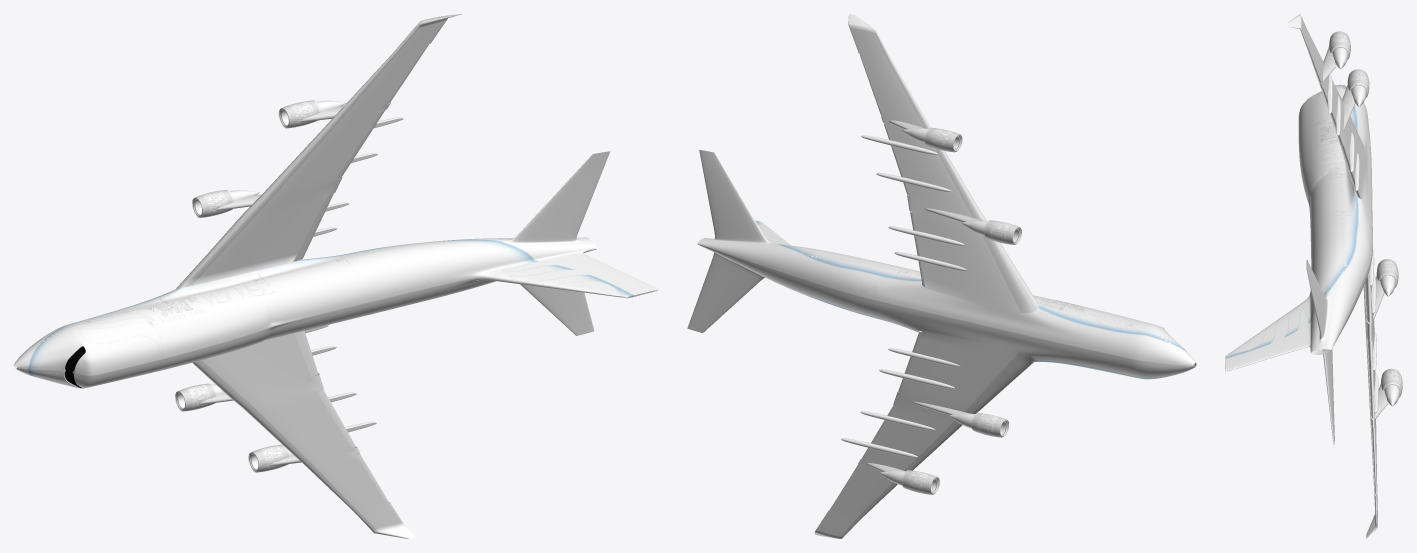
The model's file is b744-exterior.d7dd8d31.glb.
3 renders of one model, left to right at view 1: azimuth 30°, elevation 25°; view 2: azimuth 150°, elevation 25°; view 3: azimuth 270°, elevation 25°, orthographic. The views are drawn at different scales.
Parts seen in each view (by area): view 1: Cylinder; view 2: Cylinder; view 3: Cylinder.
Boxes of the visible parts, x1,y1,x2,y2 form: Cylinder: (14, 14, 658, 538); Cylinder: (687, 14, 1196, 538); Cylinder: (1225, 14, 1402, 538).
Size of the model in its own units: 70.66 by 64.29 by 20.1.
3 materials, 1 textured.
